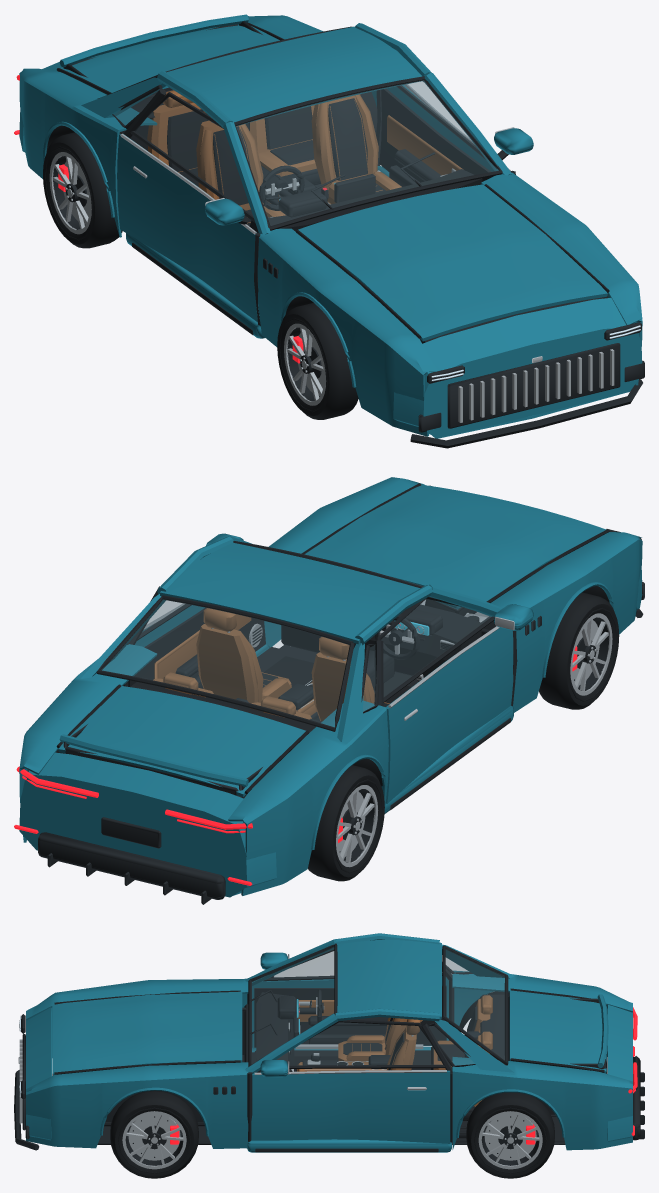
File: velaro_gt.fbx
3 renders of one model, top to bottom at view 1: azimuth 30°, elevation 25°; view 2: azimuth 150°, elevation 25°; view 3: azimuth 270°, elevation 25°, orthographic. The views are drawn at different scales.
Parts seen in each view (by area): view 1: Body_Interior, Hood_Mesh, Door_L_Mesh, Door_R_Mesh, Trunk_Mesh, Wheel_FL_Mesh, Wheel_RL_Mesh; view 2: Body_Interior, Hood_Mesh, Door_L_Mesh, Trunk_Mesh, Wheel_FL_Mesh, Wheel_RL_Mesh, Door_R_Mesh; view 3: Body_Interior, Door_R_Mesh, Hood_Mesh, Trunk_Mesh, Wheel_FR_Mesh, Wheel_RR_Mesh, Door_L_Mesh.
Boxes of the visible parts, box(x1,y1,x2,y2) form: Body_Interior: box(14, 15, 644, 448); Hood_Mesh: box(298, 184, 607, 342); Door_L_Mesh: box(117, 92, 257, 322); Door_R_Mesh: box(379, 81, 533, 186); Trunk_Mesh: box(59, 14, 279, 95); Wheel_FL_Mesh: box(277, 303, 358, 419); Wheel_RL_Mesh: box(43, 132, 122, 248); Body_Interior: box(14, 477, 644, 904); Hood_Mesh: box(304, 485, 606, 601); Door_L_Mesh: box(377, 597, 533, 803); Trunk_Mesh: box(58, 686, 305, 797); Wheel_FL_Mesh: box(539, 592, 619, 709); Wheel_RL_Mesh: box(308, 765, 384, 881); Door_R_Mesh: box(128, 533, 265, 688); Body_Interior: box(14, 933, 644, 1152); Door_R_Mesh: box(251, 1019, 450, 1143); Hood_Mesh: box(52, 991, 242, 1075); Trunk_Mesh: box(509, 990, 608, 1073); Wheel_FR_Mesh: box(110, 1090, 198, 1178); Wheel_RR_Mesh: box(466, 1092, 554, 1178); Door_L_Mesh: box(252, 949, 448, 1047).
Bounding box in the file's own units: 2.22 × 1.38 × 5.05.
